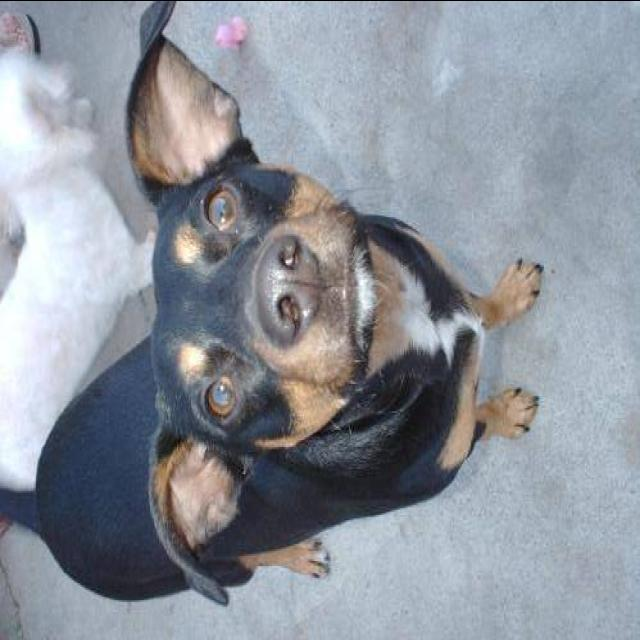dog: (0, 0, 566, 623)
